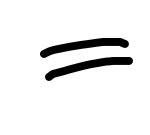eqv: (41, 38, 133, 80)
